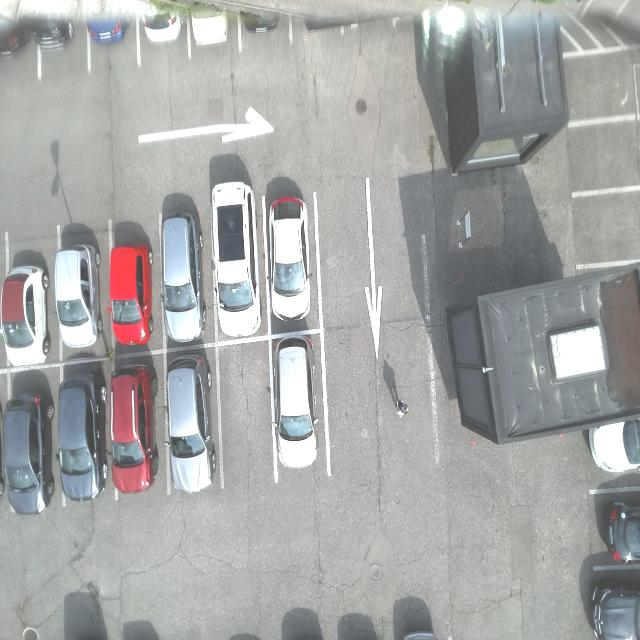car: (166, 354, 220, 496), (216, 180, 262, 339), (2, 384, 55, 520), (108, 360, 159, 497), (58, 373, 108, 504), (271, 335, 319, 469), (162, 208, 205, 344), (4, 253, 52, 372), (270, 196, 314, 321), (56, 238, 102, 353), (109, 238, 156, 346)
free_space: (216, 338, 282, 493)
